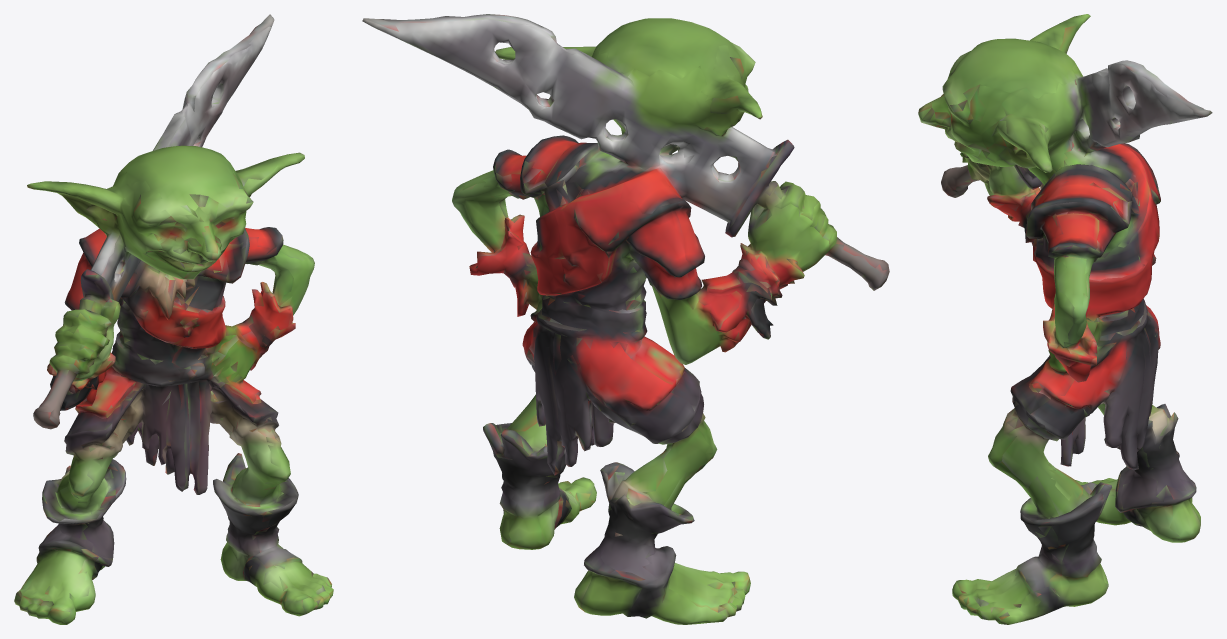
File: Helba_final.glb
The picture shows the model from 3 angles, left to right: view 1: azimuth 30°, elevation 25°; view 2: azimuth 150°, elevation 25°; view 3: azimuth 270°, elevation 25°; orthographic projection. The views are drawn at different scales.
Parts seen in each view (by area): view 1: Mesh1.0; view 2: Mesh1.0; view 3: Mesh1.0.
Part boxes in pixels (bbox=[...]): Mesh1.0: bbox=[14, 14, 333, 624]; Mesh1.0: bbox=[362, 14, 889, 624]; Mesh1.0: bbox=[918, 14, 1212, 624].
Bounding box in the file's own units: 1.35 × 1.8 × 0.9021.
Materials: 1 (1 with a texture image).
